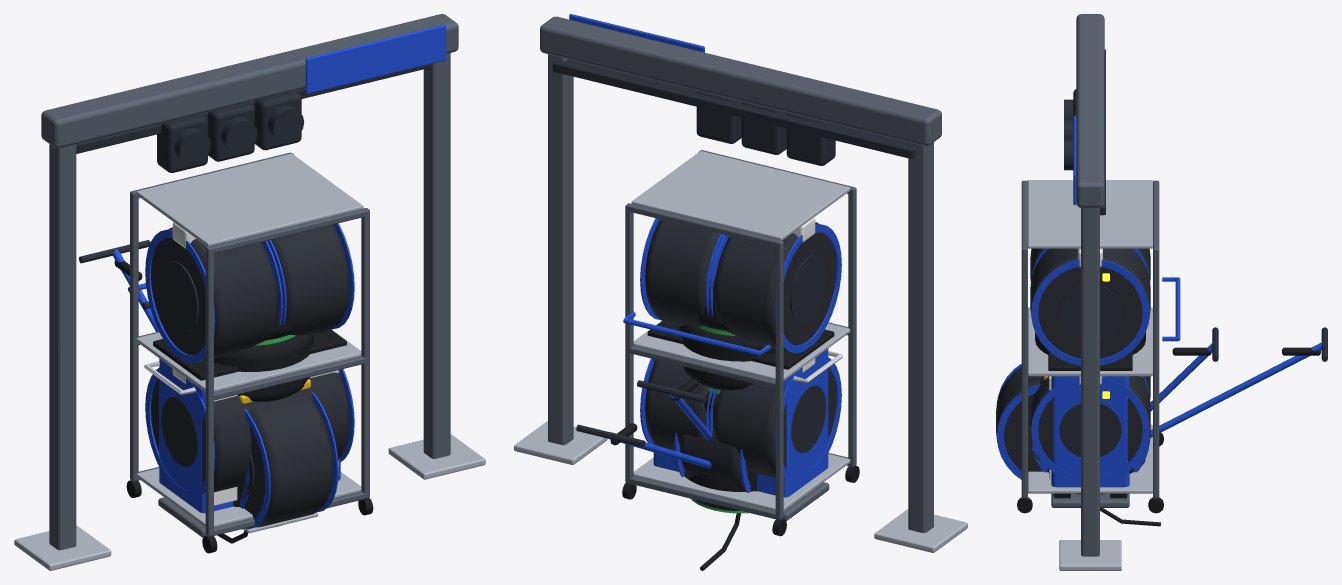
The model's file is pitgear.glb.
The picture shows the model from 3 angles, left to right: view 1: azimuth 30°, elevation 25°; view 2: azimuth 150°, elevation 25°; view 3: azimuth 270°, elevation 25°; orthographic projection. The views are drawn at different scales.
Visible parts, largest first — view 1: tyre_rack_hard_body, release_gantry_frame, tyre_cart_body, tool_trolley_body, tyre_stack_inter_body, front_jack_lever, car_stand_front_body; view 2: tyre_rack_hard_body, release_gantry_frame, tool_trolley_body, tyre_stack_inter_body, blanket_hard_body, front_jack_lever, rear_jack_lever; view 3: tyre_rack_hard_body, release_gantry_frame, tool_trolley_body, tyre_cart_body, front_jack_lever, rear_jack_lever, car_stand_front_body.
Boxes of the visible parts, bbox=[...] form: tyre_rack_hard_body: bbox=[126, 152, 373, 553]; release_gantry_frame: bbox=[14, 14, 485, 570]; tyre_cart_body: bbox=[239, 379, 338, 533]; tool_trolley_body: bbox=[144, 330, 346, 513]; tyre_stack_inter_body: bbox=[214, 283, 313, 529]; front_jack_lever: bbox=[79, 240, 158, 331]; car_stand_front_body: bbox=[158, 497, 206, 537]; tyre_rack_hard_body: bbox=[622, 150, 859, 536]; release_gantry_frame: bbox=[514, 14, 967, 552]; tool_trolley_body: bbox=[647, 321, 842, 497]; tyre_stack_inter_body: bbox=[679, 276, 775, 513]; blanket_hard_body: bbox=[674, 428, 750, 492]; front_jack_lever: bbox=[576, 423, 711, 468]; rear_jack_lever: bbox=[637, 379, 712, 440]; tyre_rack_hard_body: bbox=[1017, 180, 1180, 513]; release_gantry_frame: bbox=[1059, 14, 1121, 570]; tool_trolley_body: bbox=[1048, 352, 1132, 498]; tyre_cart_body: bbox=[996, 364, 1047, 479]; front_jack_lever: bbox=[1150, 327, 1327, 437]; rear_jack_lever: bbox=[1150, 327, 1218, 411]; car_stand_front_body: bbox=[1051, 493, 1129, 507].
Size of the model in its own units: 2.8 by 3.04 by 2.12.
